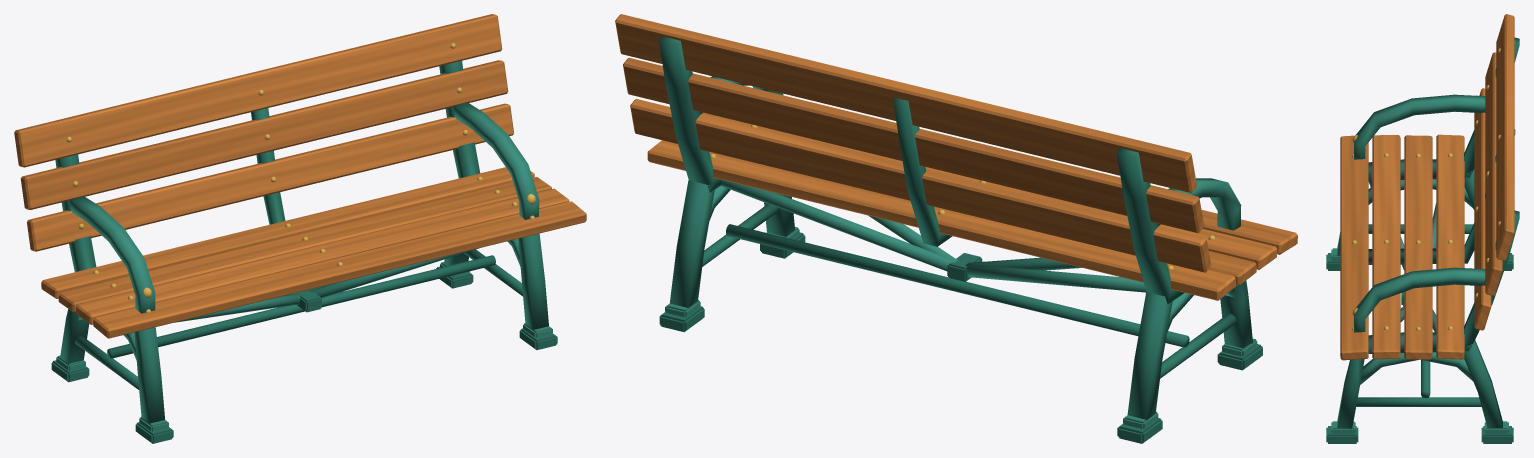
The model's file is bench.glb.
The picture shows the model from 3 angles, left to right: view 1: azimuth 30°, elevation 25°; view 2: azimuth 150°, elevation 25°; view 3: azimuth 270°, elevation 25°; orthographic projection. The views are drawn at different scales.
Visible parts, largest first — view 1: Moonbay verdigris cast-iron and oak park bench; view 2: Moonbay verdigris cast-iron and oak park bench; view 3: Moonbay verdigris cast-iron and oak park bench.
Boxes of the visible parts, <box> form: Moonbay verdigris cast-iron and oak park bench: <box>14,14,586,443</box>; Moonbay verdigris cast-iron and oak park bench: <box>615,14,1297,443</box>; Moonbay verdigris cast-iron and oak park bench: <box>1326,14,1519,443</box>.
Bounding box in the file's own units: 1.8 × 0.9 × 0.68.
3 materials, 1 textured.
